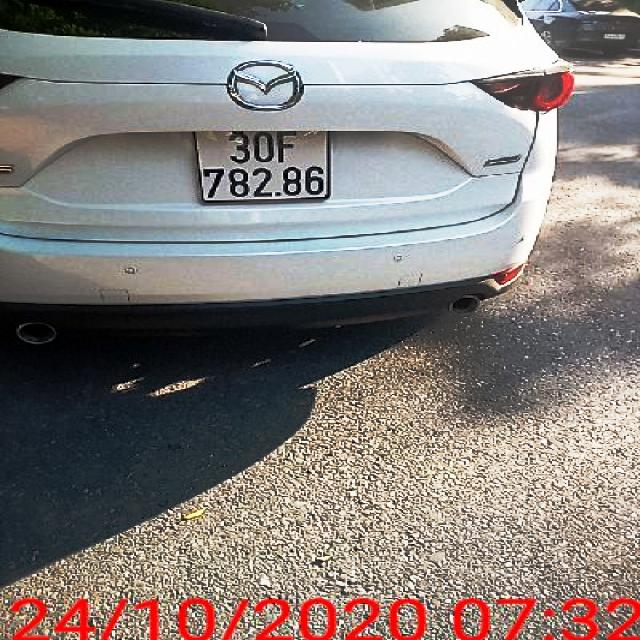license_plate: (197, 131, 330, 205)
